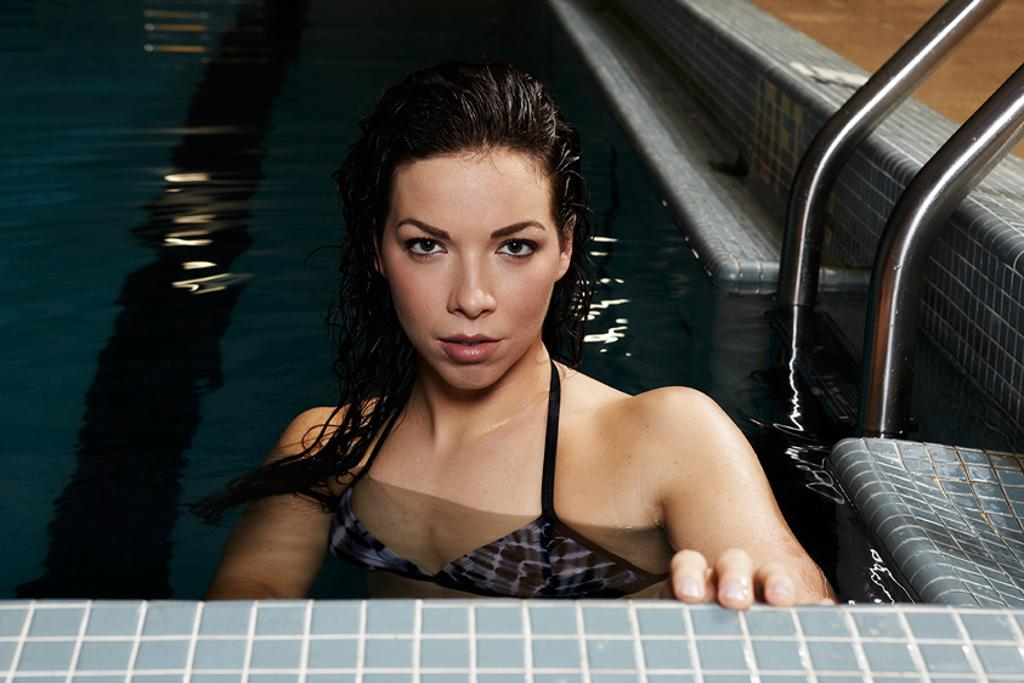face: (386, 172, 556, 388)
